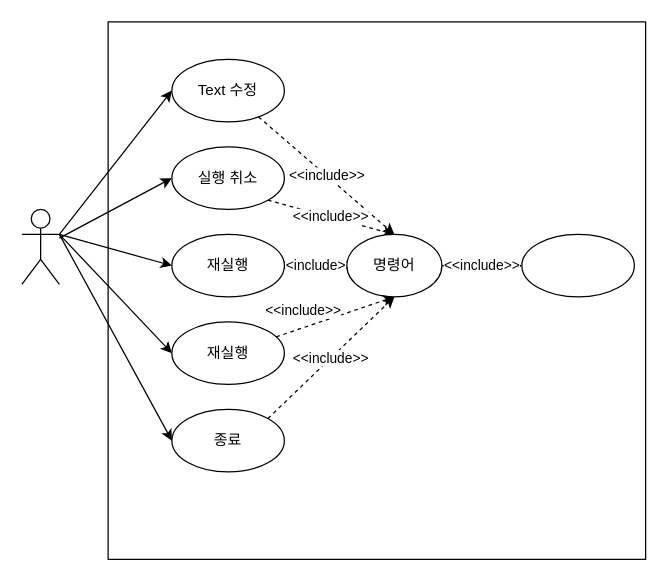
Image size: 668x581. Some labels were removed from this diagram. The shapes that lost their labels are listed below. From the top down, each one's centre as x and y in pixels, then its label:
At point 40,246: "Client".
At point 577,265: "play".
